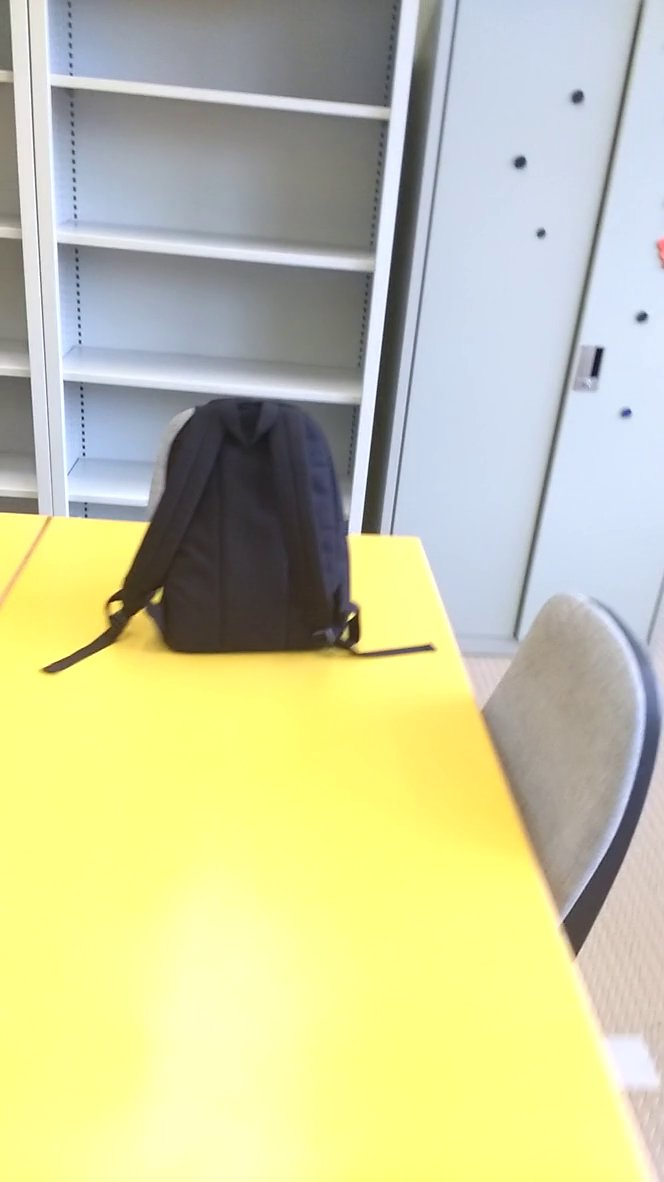bag: (38, 392, 437, 679)
chair: (473, 578, 664, 999)
